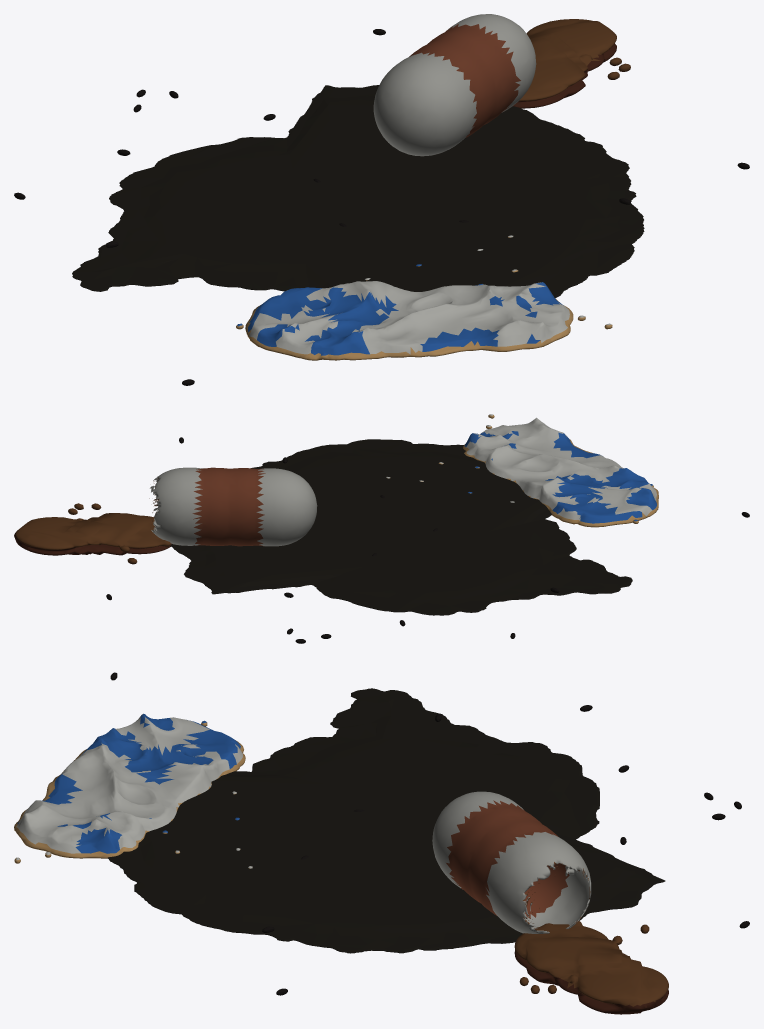
Rendered from food_scraps.glb.
3 renders of one model, top to bottom at view 1: azimuth 30°, elevation 25°; view 2: azimuth 150°, elevation 25°; view 3: azimuth 270°, elevation 25°, orthographic. The views are drawn at different scales.
Parts seen in each view (by area): view 1: lache, folie, dose, inhalt, kot; view 2: lache, dose, folie, inhalt, kot; view 3: lache, folie, dose, inhalt, kot.
Part boxes in pixels (left/top/right/bottom): lache: left=72, top=85, right=644, bottom=298; folie: left=236, top=235, right=612, bottom=360; dose: left=373, top=14, right=536, bottom=156; inhalt: left=513, top=19, right=630, bottom=108; kot: left=14, top=29, right=749, bottom=385; lache: left=170, top=439, right=632, bottom=615; dose: left=149, top=467, right=317, bottom=546; folie: left=386, top=414, right=658, bottom=527; inhalt: left=14, top=503, right=171, bottom=564; kot: left=106, top=437, right=749, bottom=643; lache: left=108, top=688, right=665, bottom=953; folie: left=14, top=713, right=252, bottom=868; dose: left=432, top=791, right=591, bottom=933; inhalt: left=514, top=921, right=668, bottom=1014; kot: left=110, top=672, right=749, bottom=995.
Size of the model in its own units: 0.684 by 0.0941 by 0.6321.
